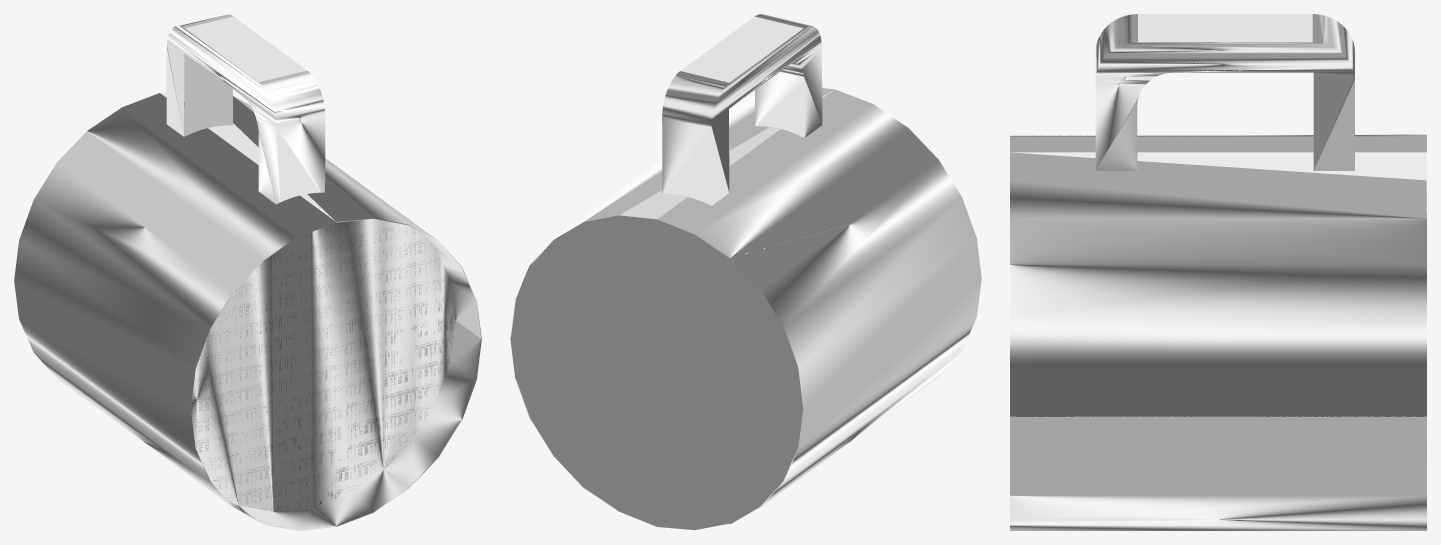
File: model_align.obj
3 renders of one model, left to right at view 1: azimuth 30°, elevation 25°; view 2: azimuth 150°, elevation 25°; view 3: azimuth 270°, elevation 25°, orthographic. The views are drawn at different scales.
Bounding box in the file's own units: 0.0817 × 0.11 × 0.0856.
